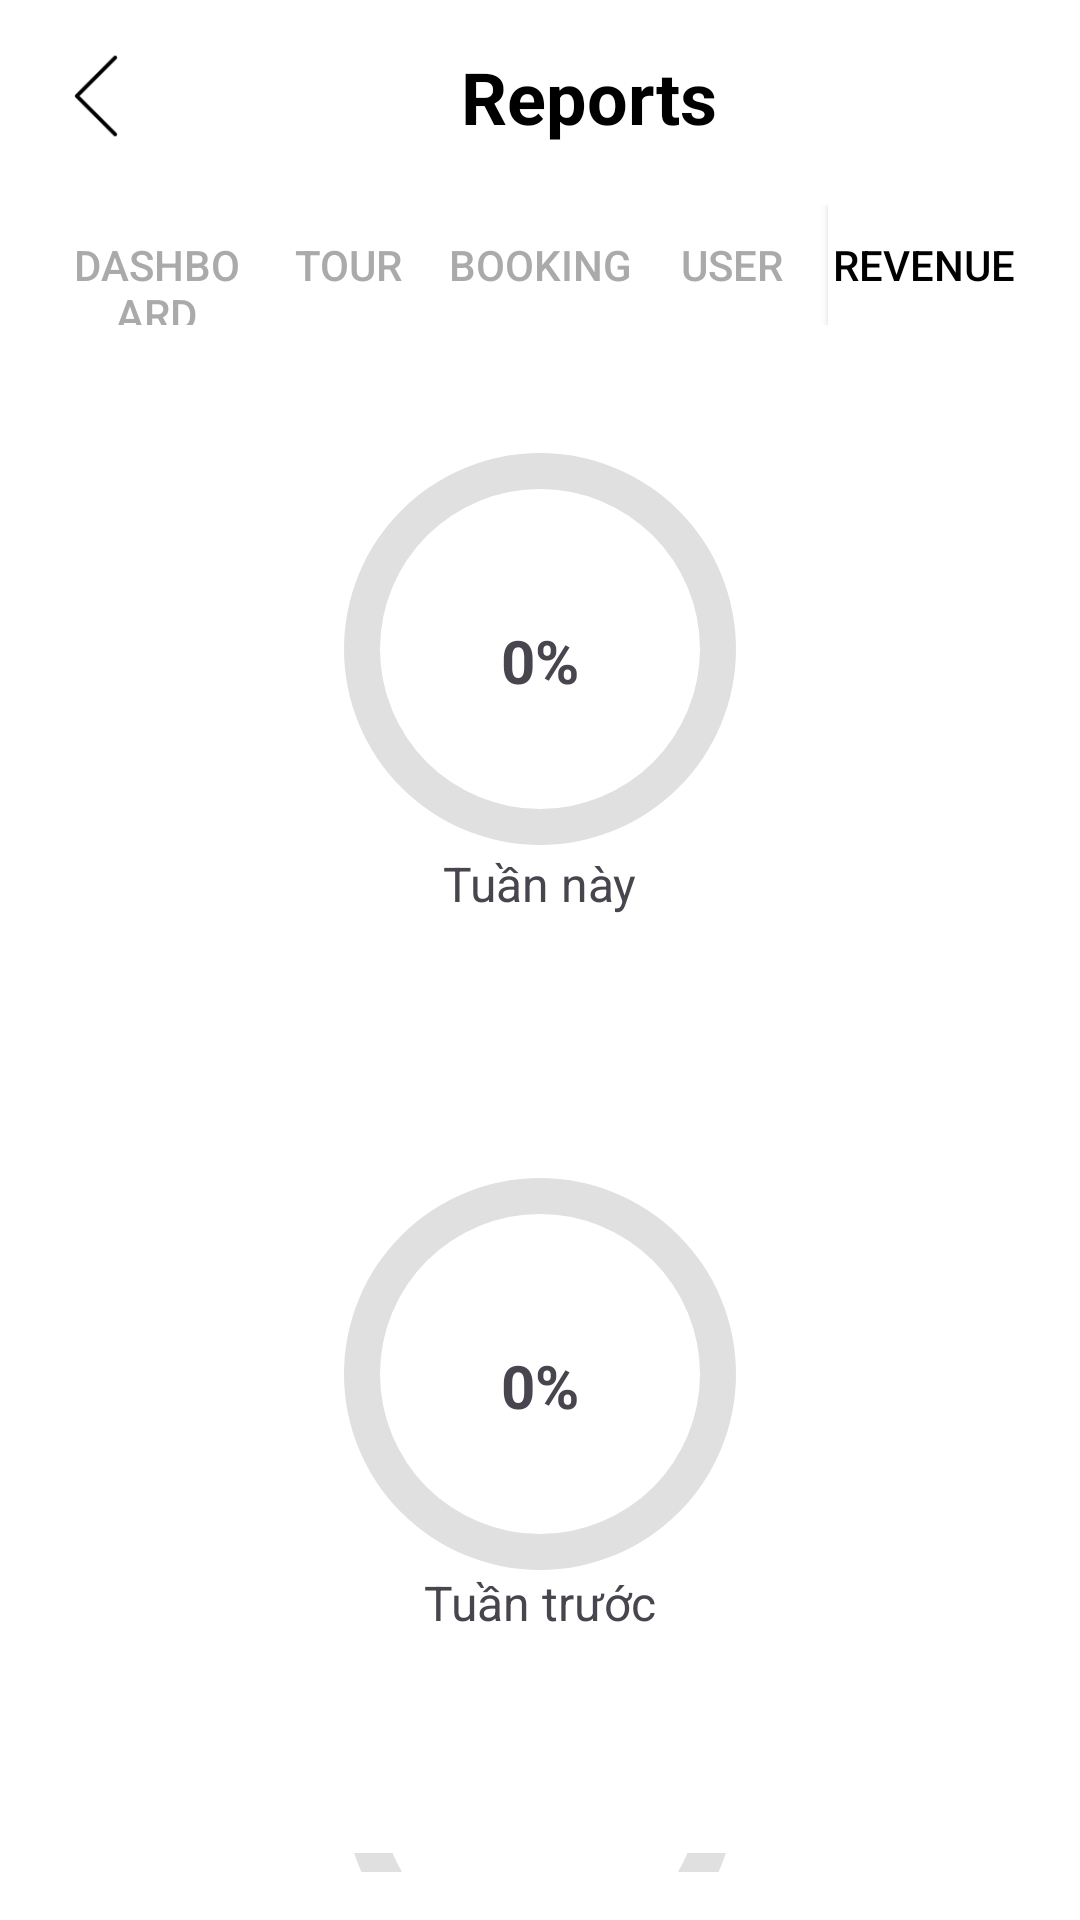

Named icons in this screenshot (1080x1920) and their centers, (x=x, y=y):
Back: (x=96, y=96)
